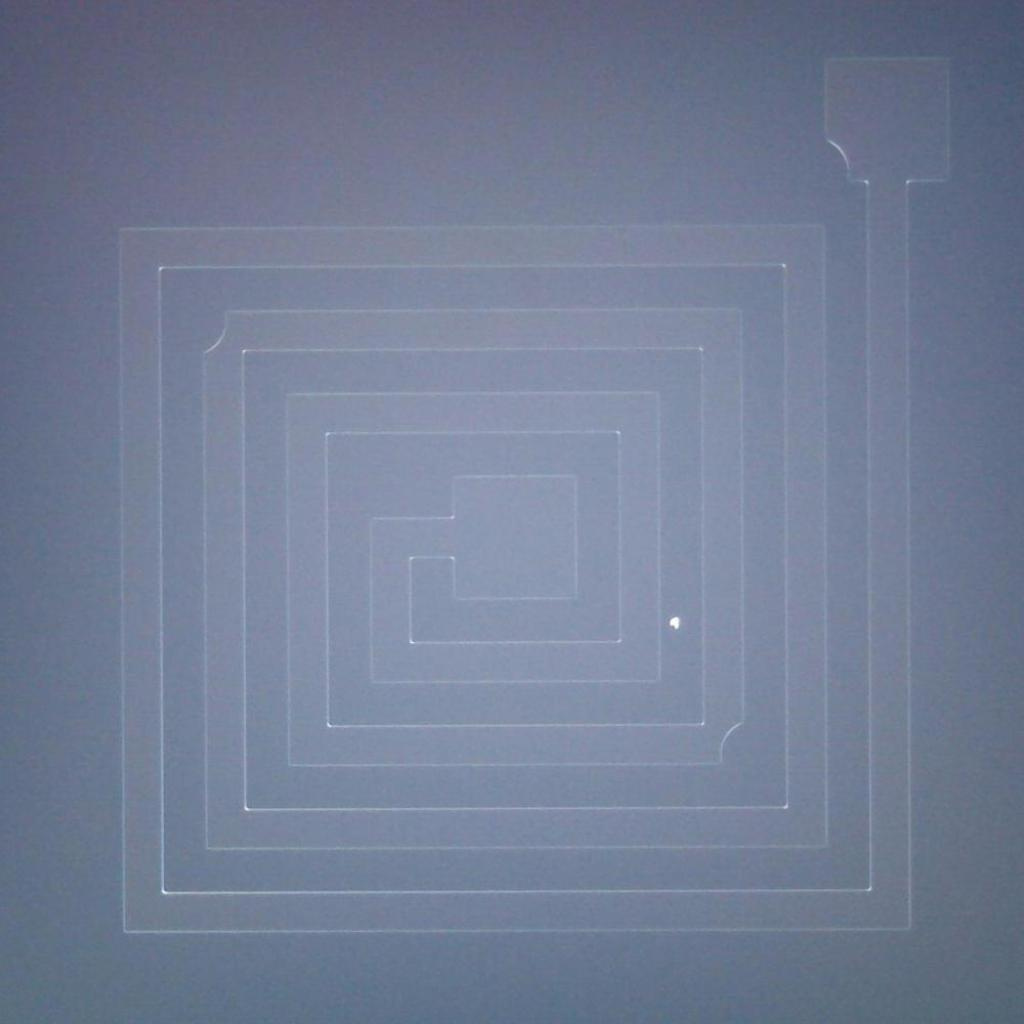curve circuit: (188, 298, 236, 360), (710, 709, 752, 777), (814, 132, 858, 196)
spot: (663, 607, 687, 635)
